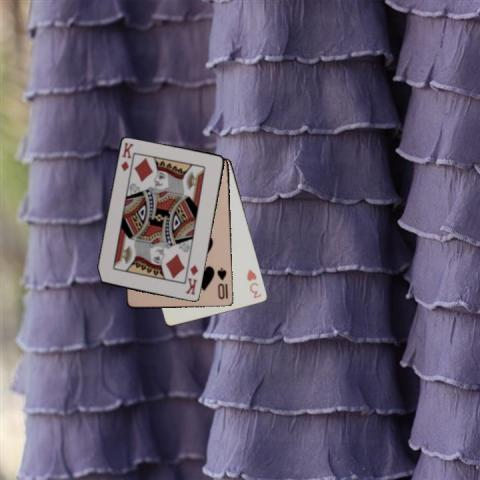10s: (214, 265, 228, 301)
3h: (244, 266, 263, 300)
Kd: (118, 140, 135, 174), (183, 261, 199, 296)
